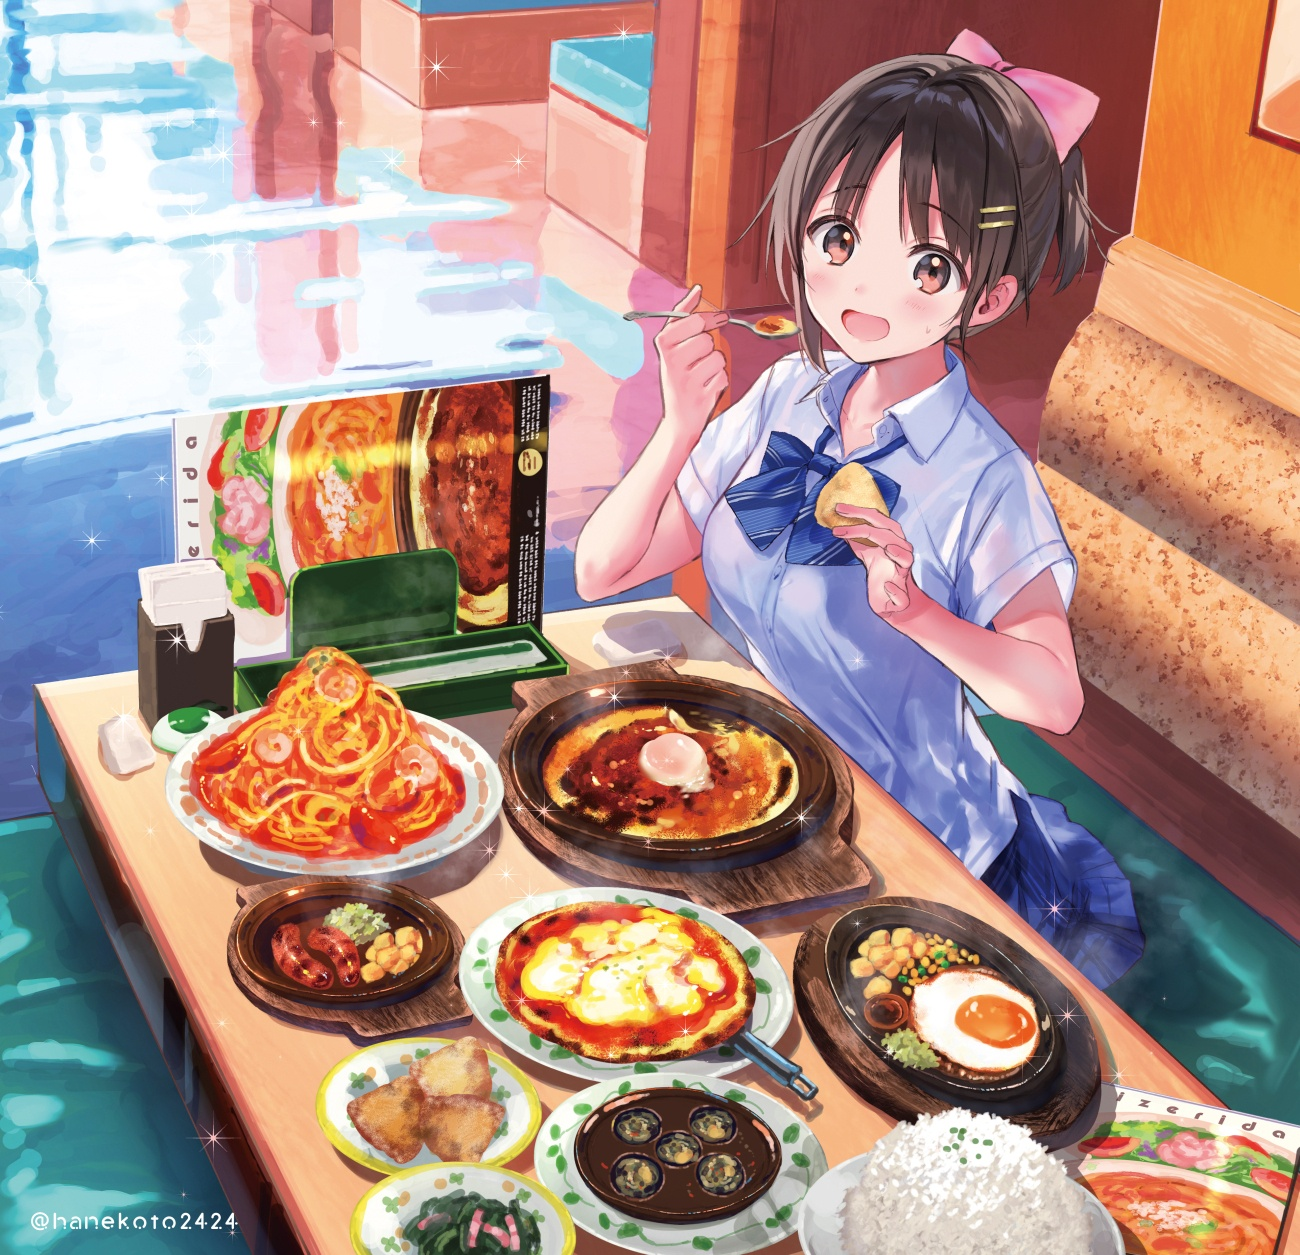纸片人正脸: (753, 39, 1098, 377), (509, 905, 757, 1052)
